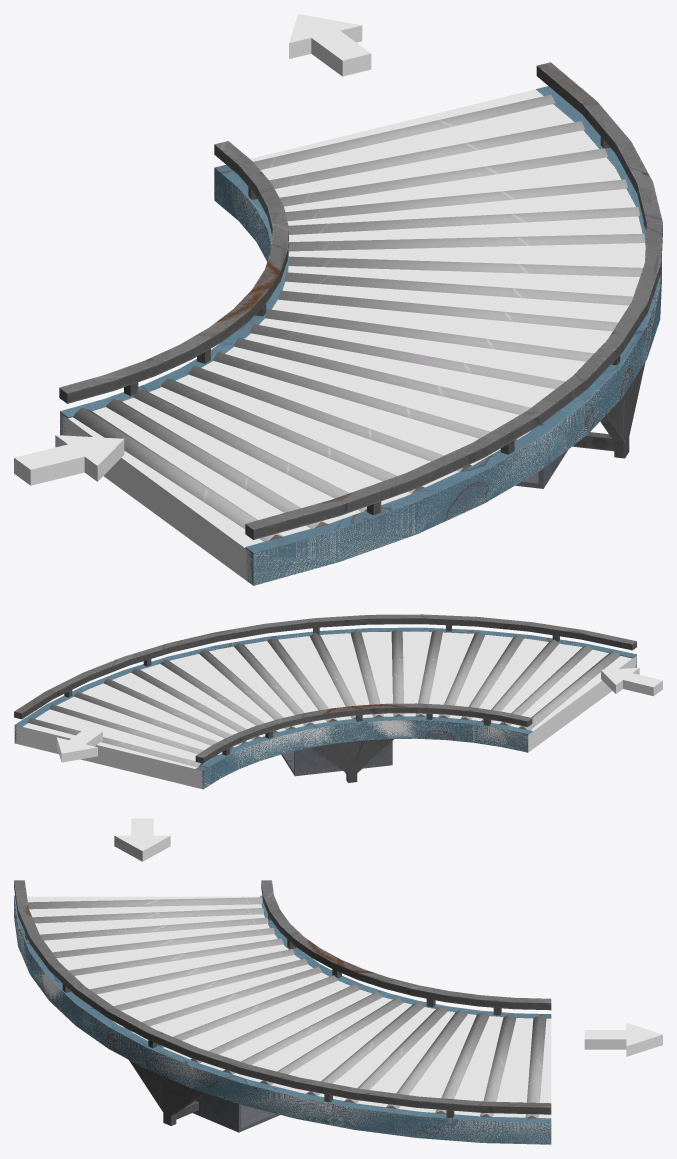
The model's file is rollerconveyor90_Mirror.glb.
3 views of the same model, one above another, from view 1: azimuth 30°, elevation 25°; view 2: azimuth 150°, elevation 25°; view 3: azimuth 270°, elevation 25° (orthographic). The views are drawn at different scales.
Visible parts, largest first — view 1: Roller90_Mirror, Roller90_Col_Mirror, ghostarrow, ghostarrow (1); view 2: Roller90_Mirror, Roller90_Col_Mirror, ghostarrow, ghostarrow (1); view 3: Roller90_Mirror, Roller90_Col_Mirror, ghostarrow (1), ghostarrow.
Boxes of the visible parts, <box> form: Roller90_Mirror: <box>59,62,662,585</box>; Roller90_Col_Mirror: <box>60,89,661,585</box>; ghostarrow: <box>14,435,124,485</box>; ghostarrow (1): <box>289,14,371,76</box>; Roller90_Mirror: <box>14,614,636,789</box>; Roller90_Col_Mirror: <box>15,631,636,789</box>; ghostarrow: <box>601,667,662,696</box>; ghostarrow (1): <box>56,727,102,762</box>; Roller90_Mirror: <box>14,880,551,1144</box>; Roller90_Col_Mirror: <box>14,896,551,1144</box>; ghostarrow (1): <box>584,1023,662,1056</box>; ghostarrow: <box>114,818,170,861</box>.
Bounding box in the file's own units: 2.35 × 0.4329 × 2.38.
Materials: 4 (2 with a texture image).
